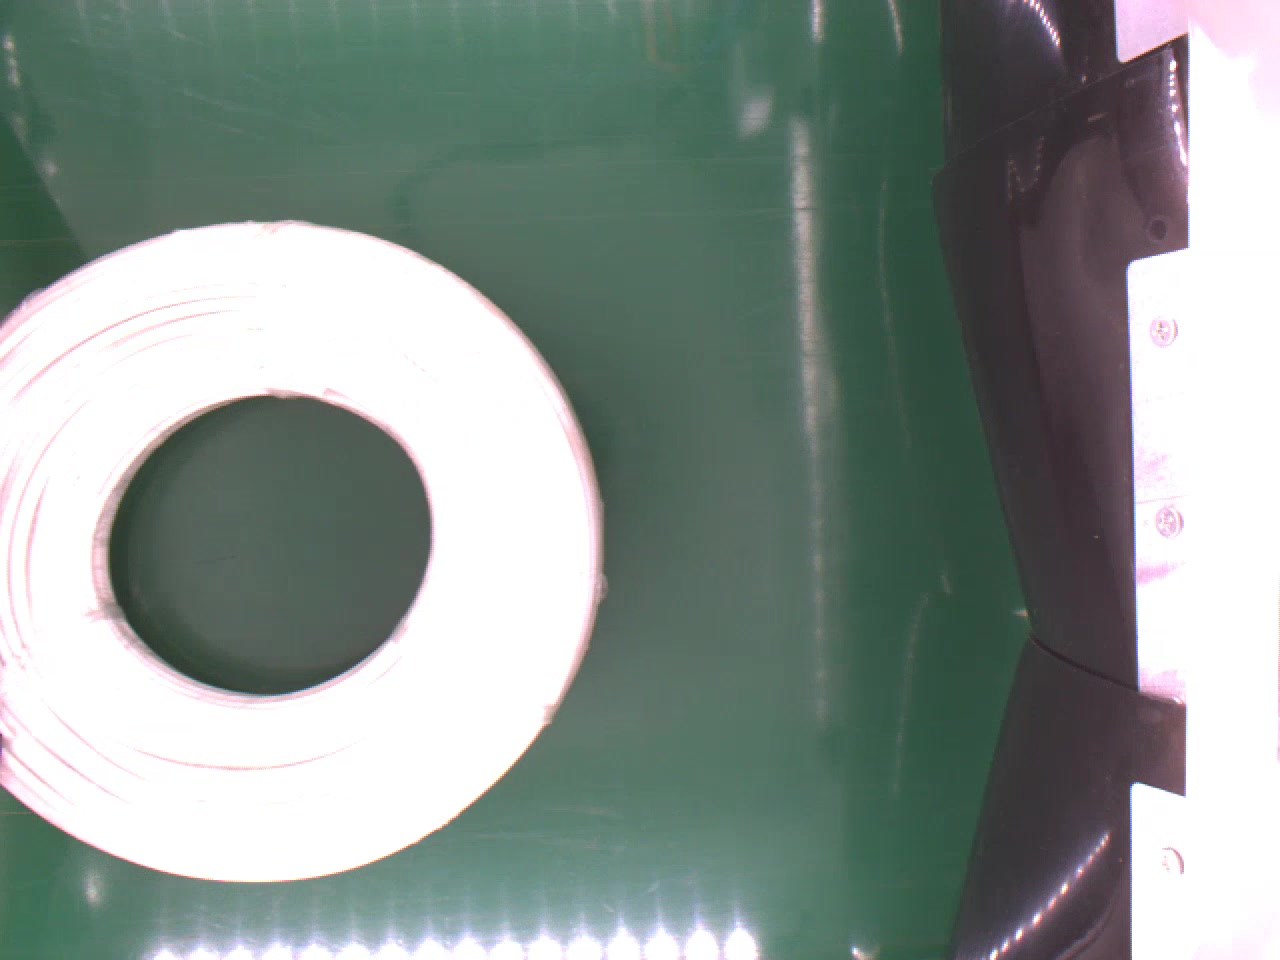white: (0, 216, 609, 889)
